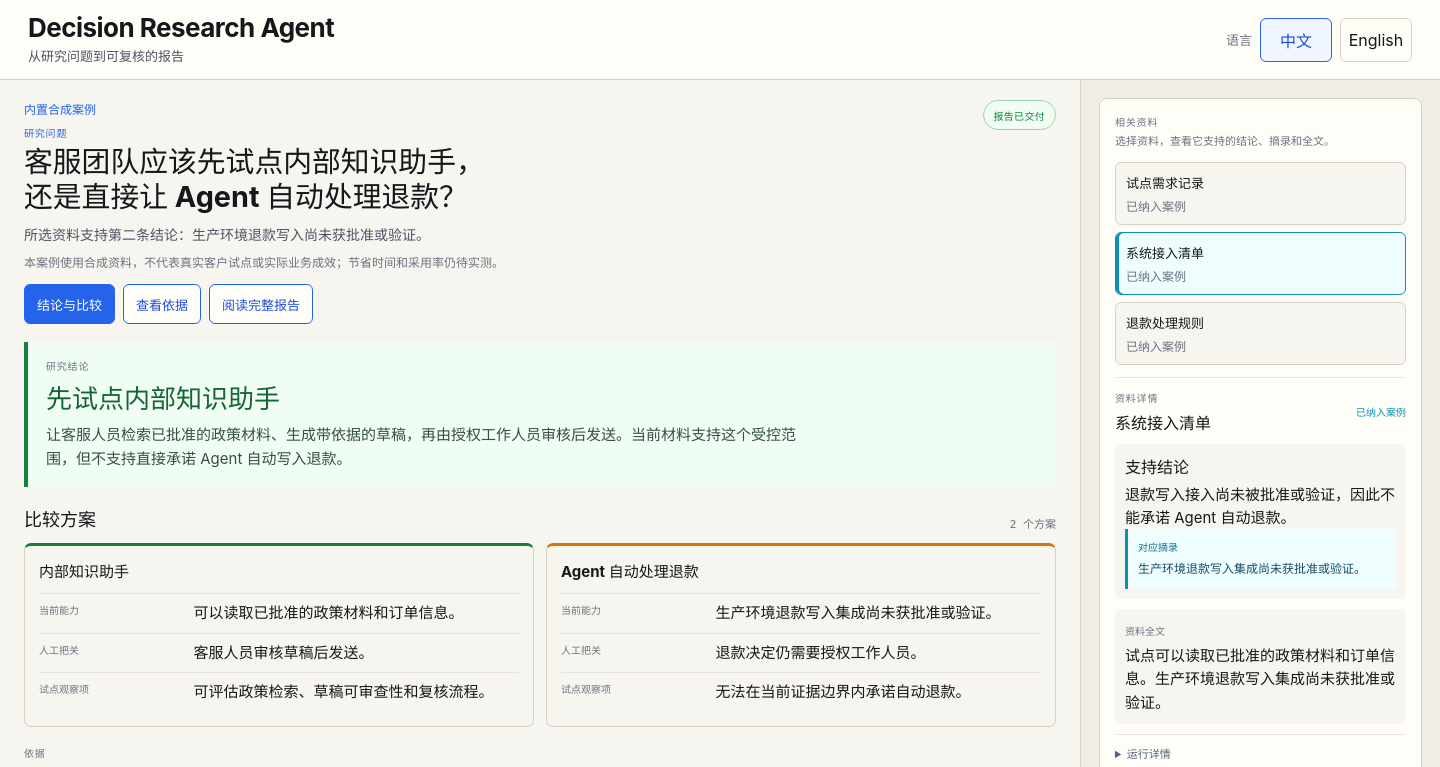
Test: Decision Research Agent demo console › keeps the delivered evidence review in one historical time frame in English
Click the button "English": (1376, 40) [1340,18,1412,62]
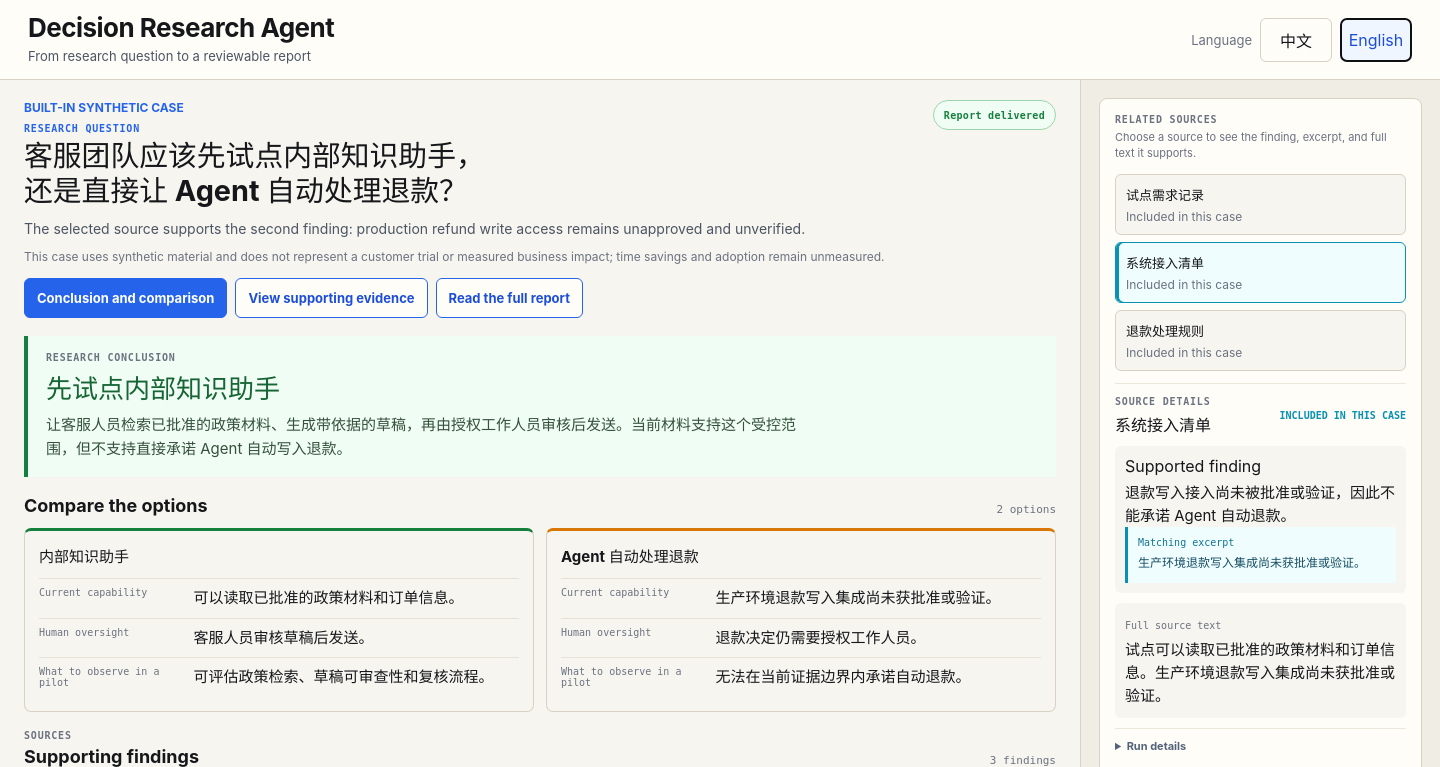
Expected: the text "This case uses synthetic material and does not represent a customer trial or measured business impact; time savings and " is shown once, [24,250,884,264]
Now the text "Report delivered" is shown, box [933,100,1056,130]
Now the button "Read the full report" is shown, box [436,278,583,318]
